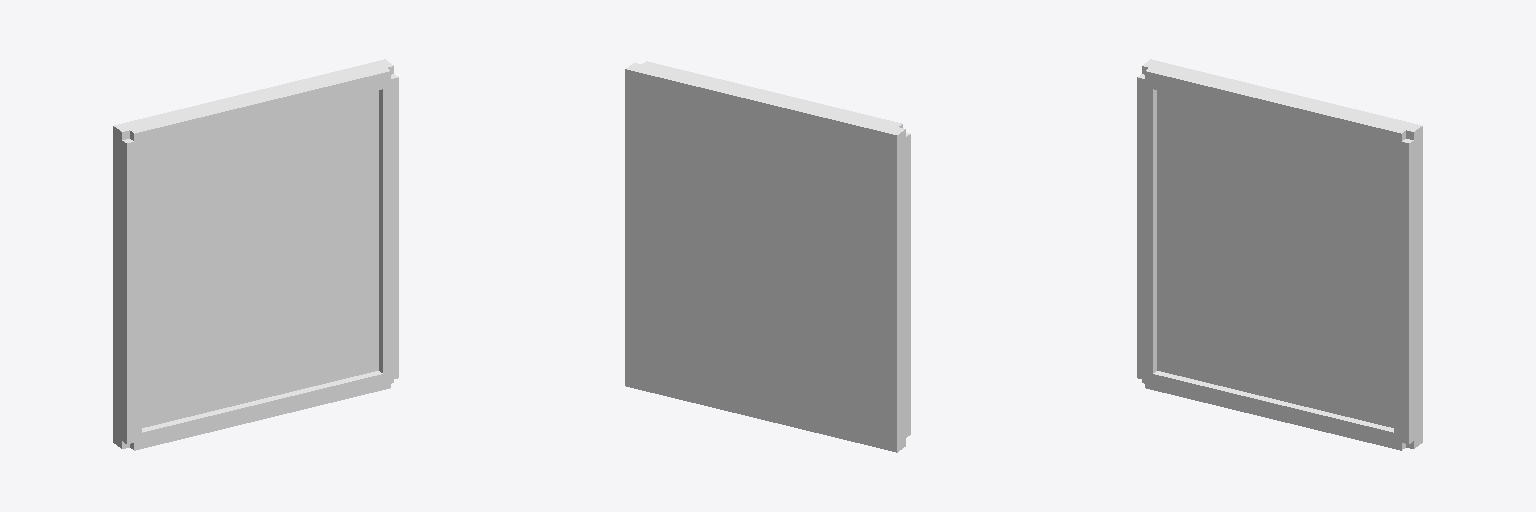
File: pic5.obj
The picture shows the model from 3 angles: view 1: azimuth 30°, elevation 25°; view 2: azimuth 150°, elevation 25°; view 3: azimuth 330°, elevation 25°; orthographic projection.
Visible parts, largest first — view 1: object 1; view 2: object 1; view 3: object 1.
Part boxes in pixels (left/top/right/bottom): object 1: left=113, top=59, right=398, bottom=450; object 1: left=625, top=61, right=910, bottom=452; object 1: left=1137, top=59, right=1422, bottom=450.
Size of the model in its own units: 3.5 by 3.9 by 0.3.